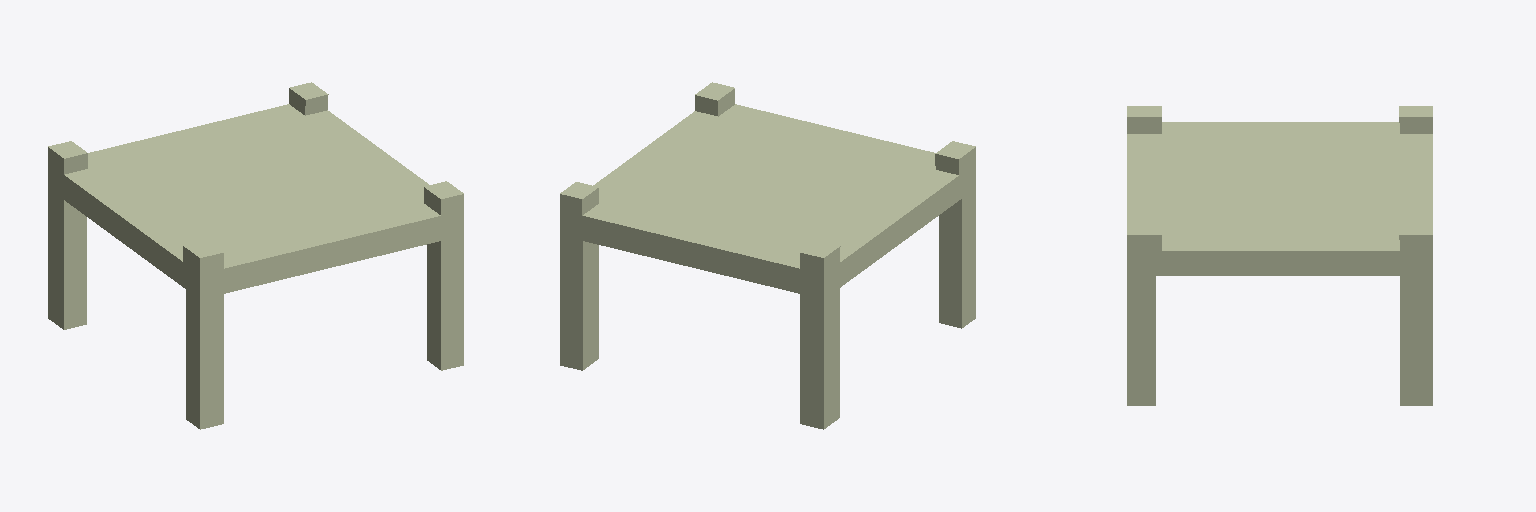
The model's file is ConveyorCross01.obj.
The picture shows the model from 3 angles: view 1: azimuth 30°, elevation 25°; view 2: azimuth 150°, elevation 25°; view 3: azimuth 270°, elevation 25°; orthographic projection.
Parts seen in each view (by area): view 1: Cube4_copy13; view 2: Cube4_copy13; view 3: Cube4_copy13.
Boxes of the visible parts, <box> form: Cube4_copy13: <box>48,82,463,429</box>; Cube4_copy13: <box>560,82,975,429</box>; Cube4_copy13: <box>1127,106,1432,405</box>.
Bounding box in the file's own units: 1 × 0.6205 × 1.